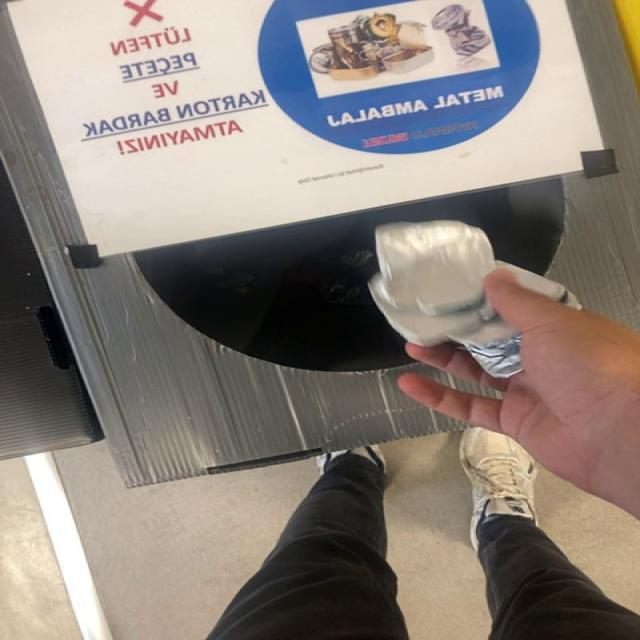Bin: (1, 0, 637, 486)
Metal: (376, 221, 496, 316)
